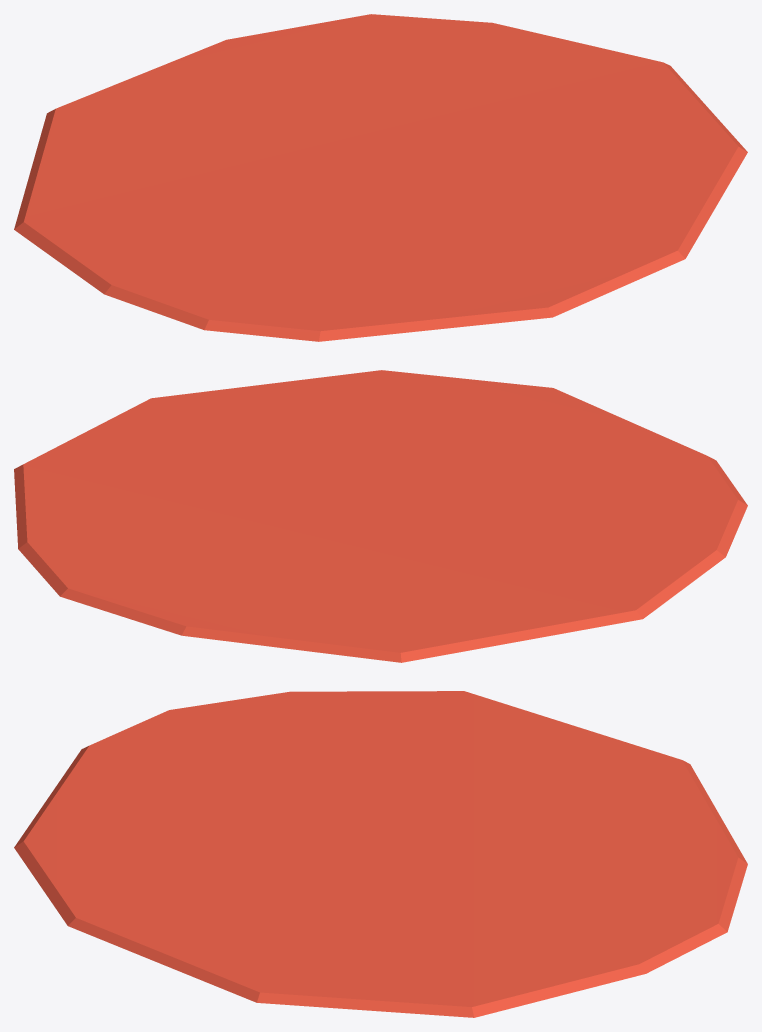
Rendered from ketchup-pizza.glb.
The picture shows the model from 3 angles, top to bottom: view 1: azimuth 30°, elevation 25°; view 2: azimuth 150°, elevation 25°; view 3: azimuth 270°, elevation 25°; orthographic projection. The views are drawn at different scales.
Parts seen in each view (by area): view 1: KetchupPizza.001; view 2: KetchupPizza.001; view 3: KetchupPizza.001.
Boxes of the visible parts, <box> form: KetchupPizza.001: <box>14,14,747,341</box>; KetchupPizza.001: <box>14,370,747,662</box>; KetchupPizza.001: <box>14,691,747,1017</box>.
Size of the model in its own units: 0.4967 by 0.00463 by 0.4746.
Materials: 1 (1 with a texture image).
